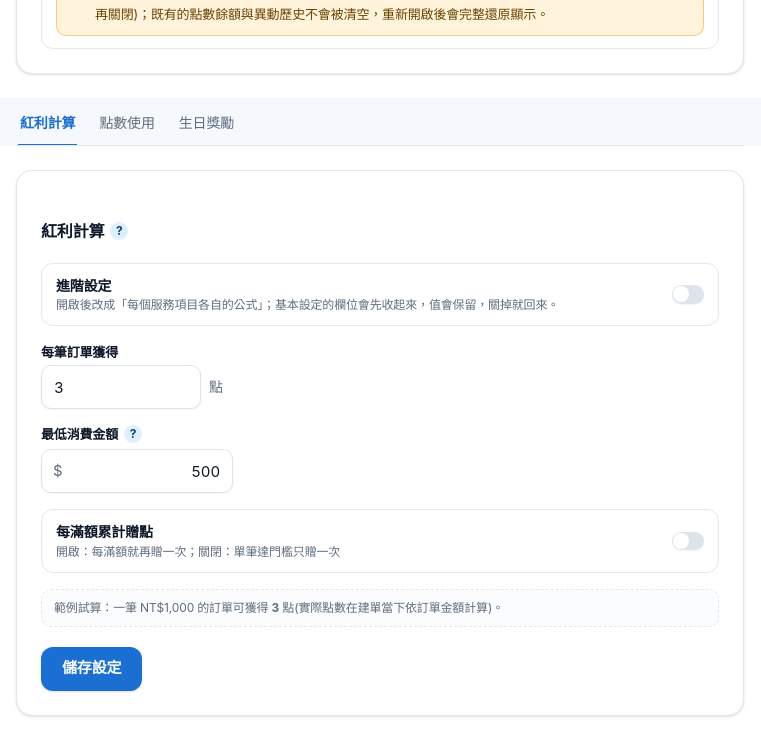
§4.2 紅利計算 › 每滿額累計開 ⇒ 兩個欄位標籤即時改名
This screenshot has width=761, height=734.
(page scrolled)
Check: the field labelled "最低消費金額" is shown, box x1=41 y1=449 x2=233 y2=493
Click the switch named "每滿額累計贈點" in the row of "開啟：每滿額就再贈一次；關閉：單筆達門檻只贈一次": (688, 541) x1=672 y1=532 x2=704 y2=550
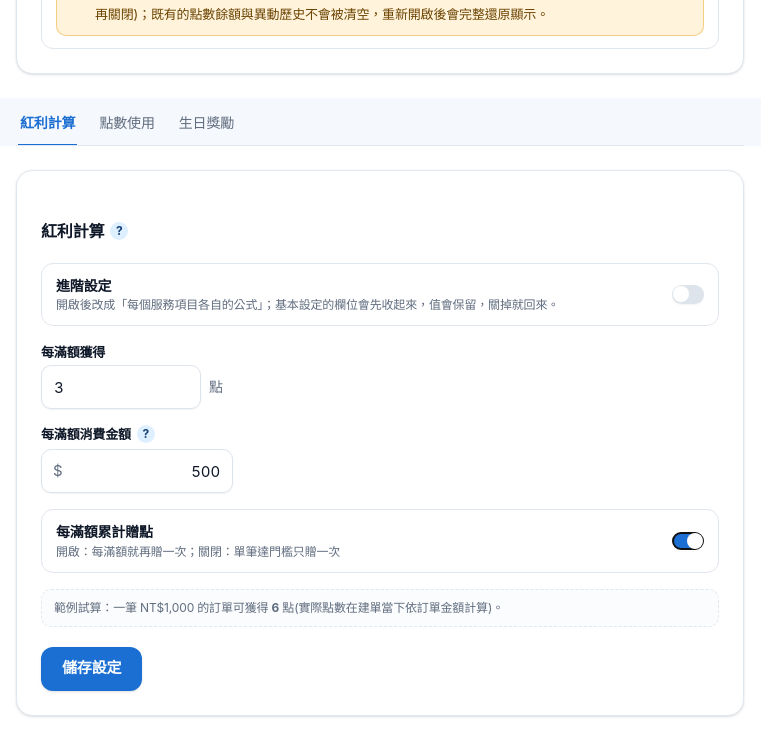
Check: the field labelled "每滿額獲得" is shown, box x1=41 y1=365 x2=201 y2=409
Check: the label labelled "最低消費金額" is gone
